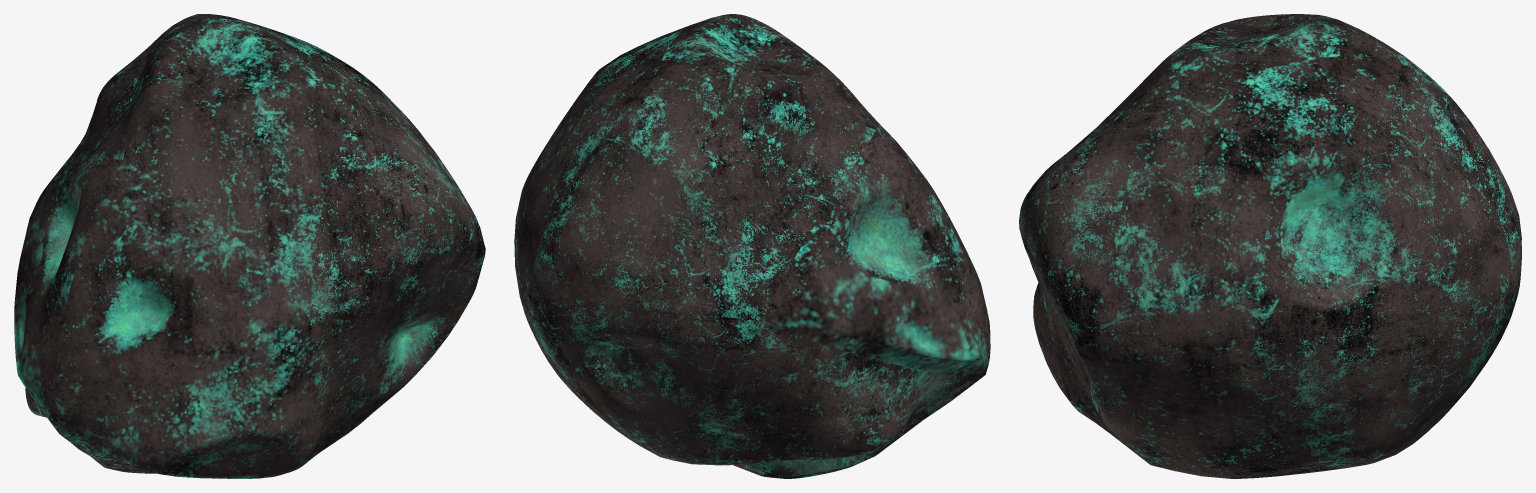
The model's file is Asteroide1.fbx.
3 renders of one model, left to right at view 1: azimuth 30°, elevation 25°; view 2: azimuth 150°, elevation 25°; view 3: azimuth 270°, elevation 25°, orthographic. The views are drawn at different scales.
Visible parts, largest first — view 1: asteroide:asteroide; view 2: asteroide:asteroide; view 3: asteroide:asteroide.
Part boxes in pixels (bbox=[...]): asteroide:asteroide: bbox=[14, 14, 485, 478]; asteroide:asteroide: bbox=[514, 14, 990, 478]; asteroide:asteroide: bbox=[1019, 14, 1521, 478].
Bounding box in the file's own units: 332 × 321 × 318.
